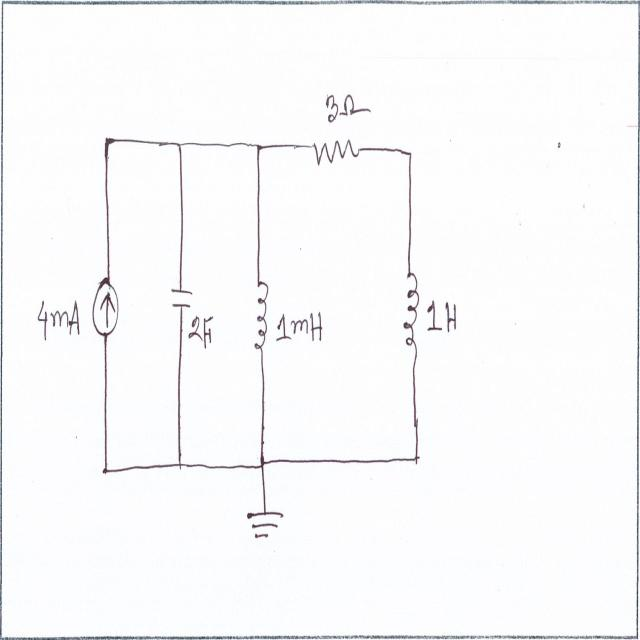capacitor: (169, 282, 195, 315)
current_source: (88, 269, 125, 348)
ground: (244, 501, 286, 552)
inductor: (400, 267, 422, 364), (252, 278, 270, 358)
resistor: (312, 133, 362, 175)
